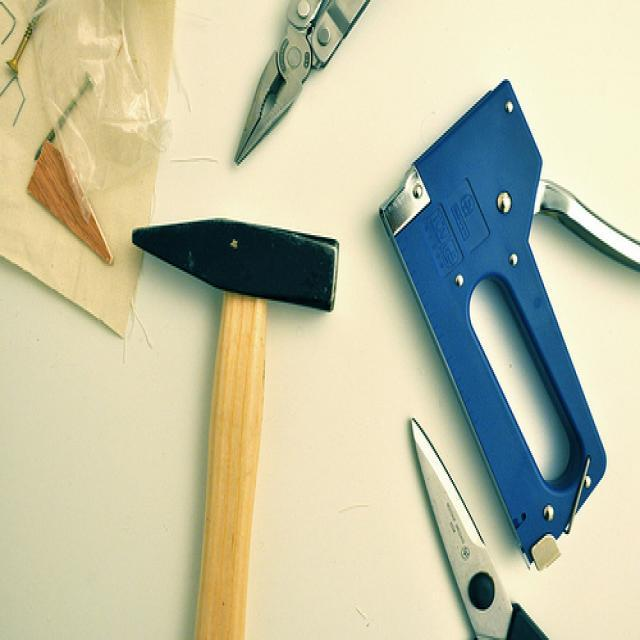hammer: (120, 210, 343, 640)
pliers: (232, 0, 371, 172)
